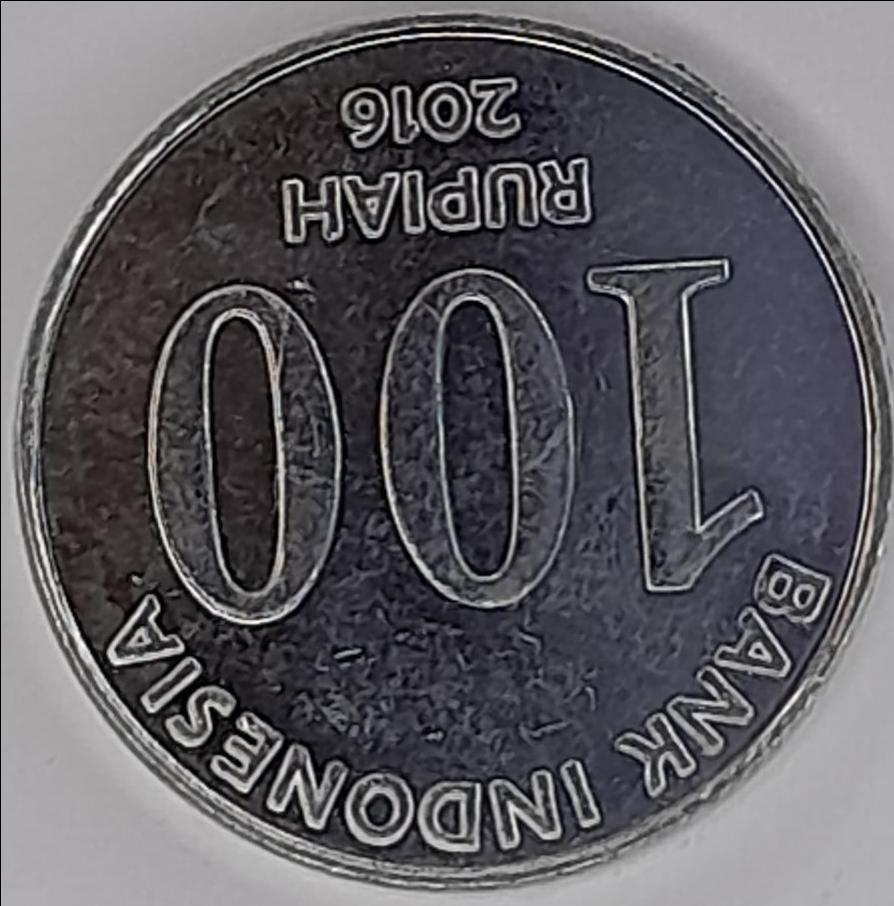coin_100_e2016: (9, 3, 893, 891)
